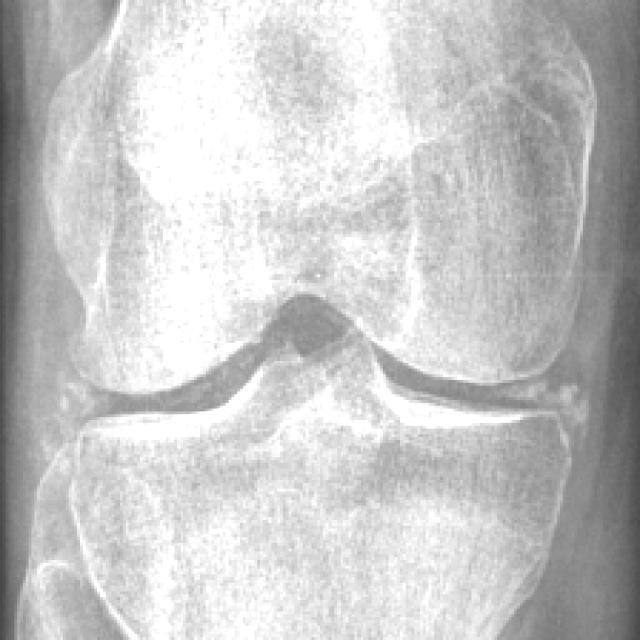femur: (42, 1, 597, 395)
tibia: (68, 329, 573, 640)
